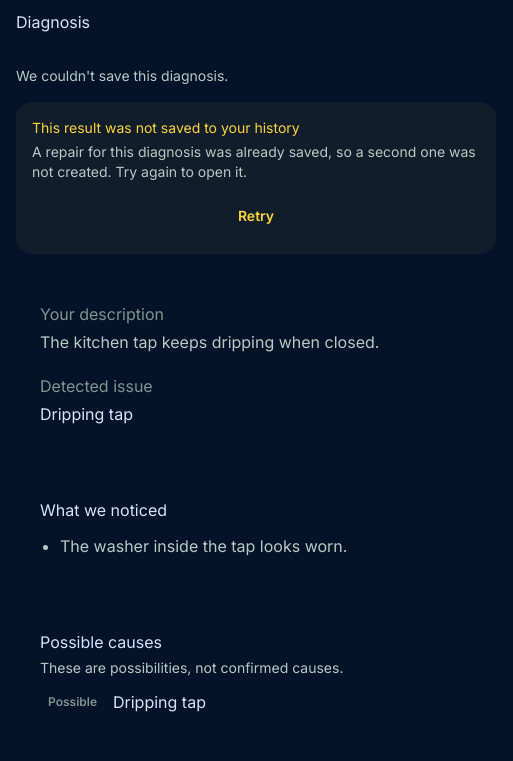
Scenario: a duplicate-key conflict (23505) on the session insert › if the winning row is already finished, the retry shows the finished state (D14), not a loop
The image size is (513, 761).
Expected: the text "We couldn't save this diagnosis." is shown, 16,67 -> 228,84
Expected: the 2nd message shows "This result was not saved to your history", 32,119 -> 300,136
Click the button "Retry" at (256, 216), box 32,194 -> 480,238
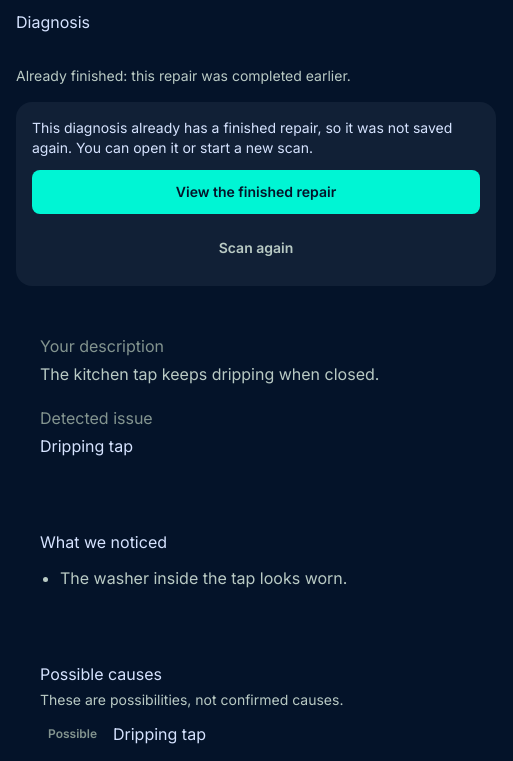
Now the text "Already finished: this repair was completed earlier." is shown, box 16,67 -> 351,84
